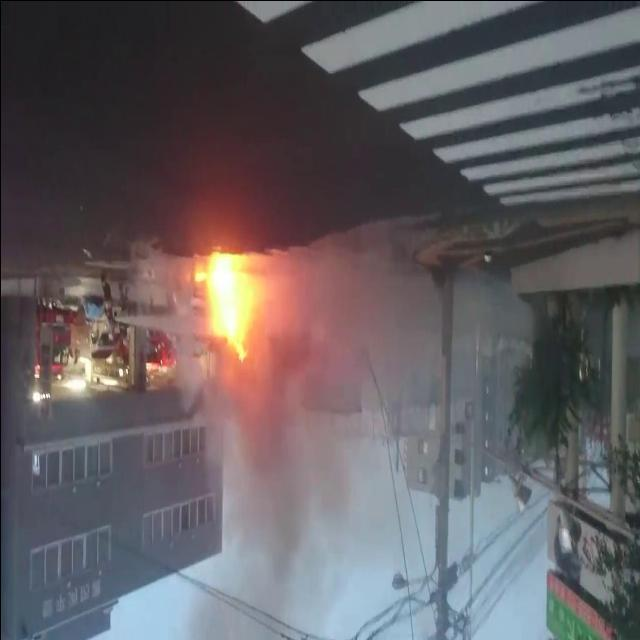Fire: (196, 248, 260, 359)
